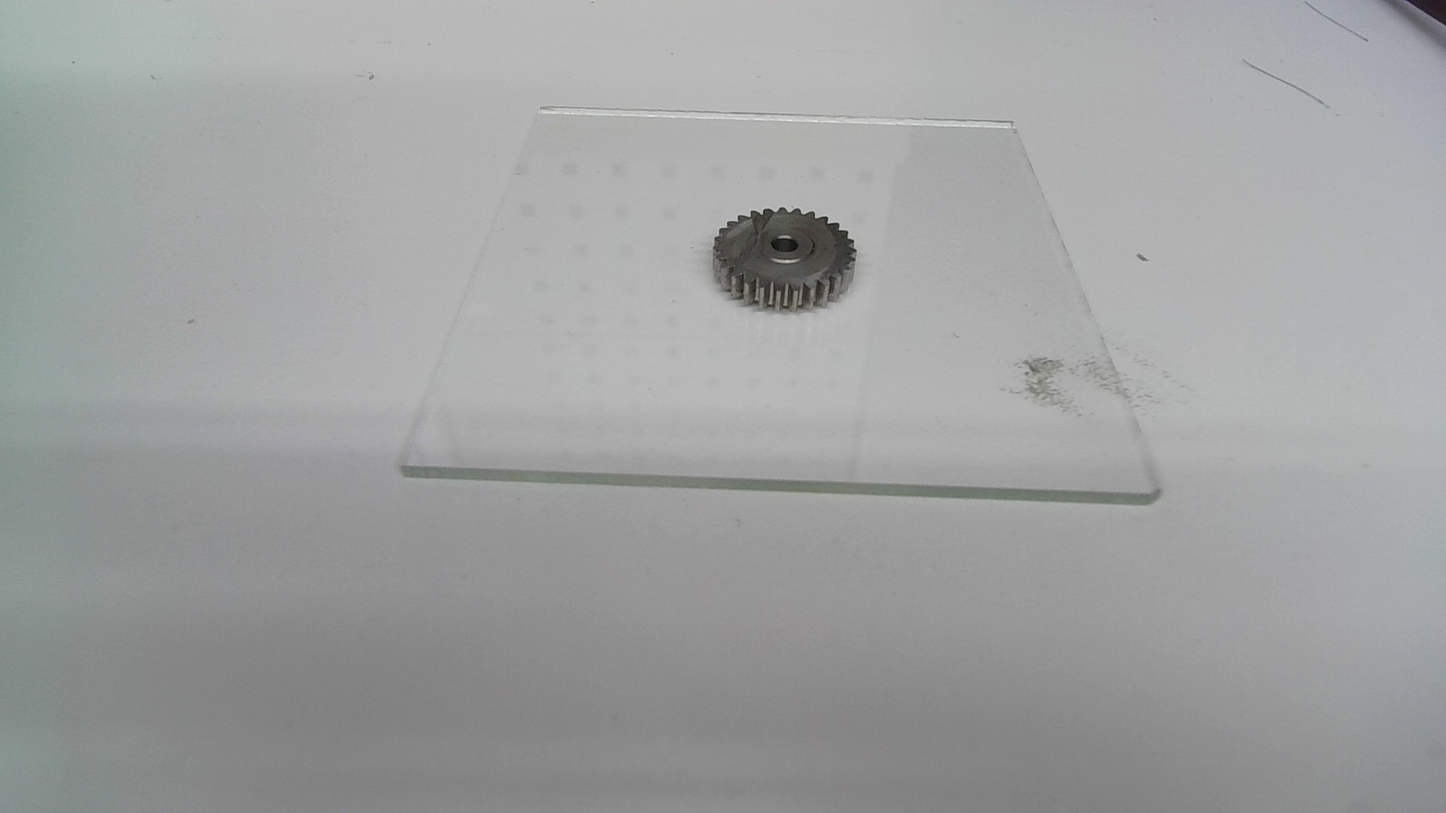gear: (711, 204, 858, 317)
